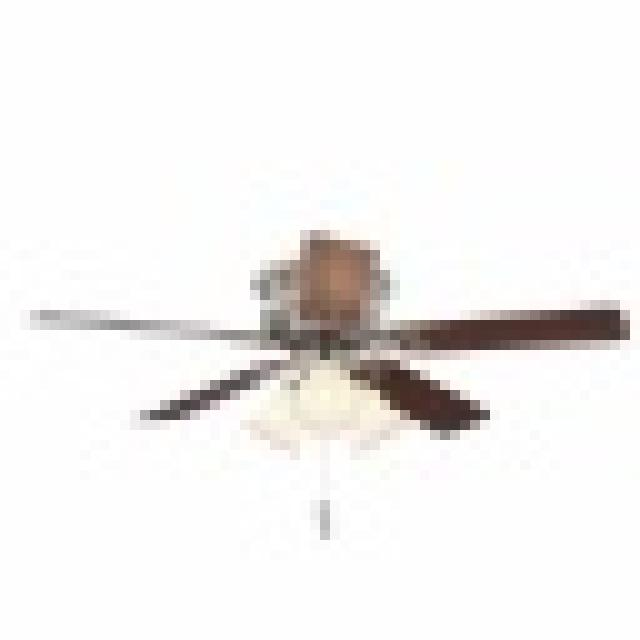Bulb: (30, 249, 640, 488)
